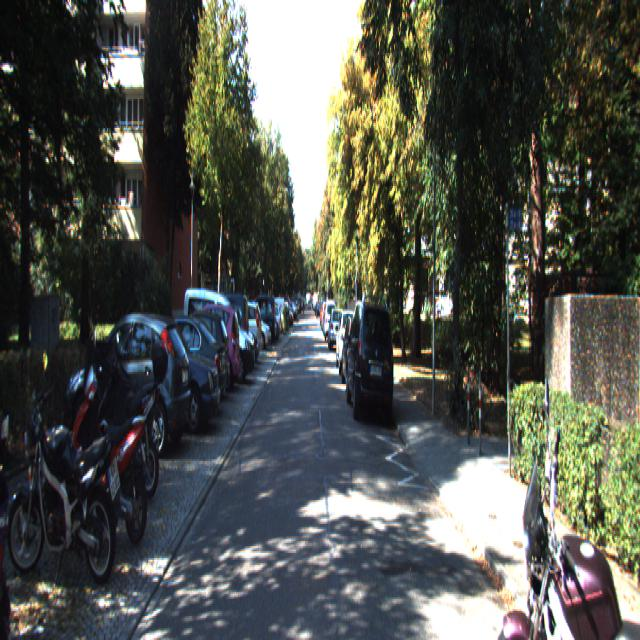Car: (484, 425, 640, 638), (6, 395, 122, 605), (56, 348, 152, 538), (72, 312, 192, 462), (98, 311, 220, 440), (100, 352, 172, 508), (137, 317, 228, 425), (182, 289, 255, 390), (344, 295, 396, 427), (179, 304, 240, 398), (335, 310, 361, 378), (328, 306, 344, 352)
